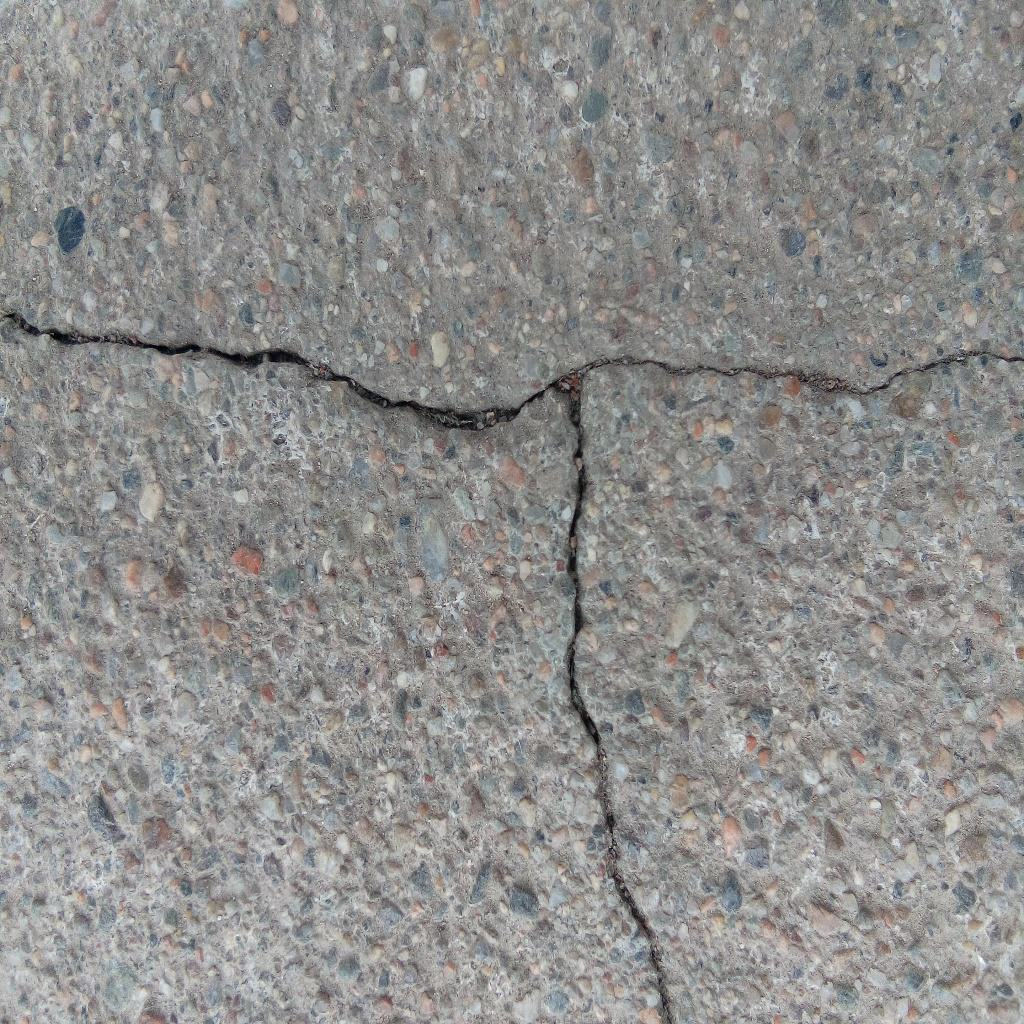Crack: (562, 398, 671, 1024), (1, 310, 571, 428), (571, 350, 1024, 396)
